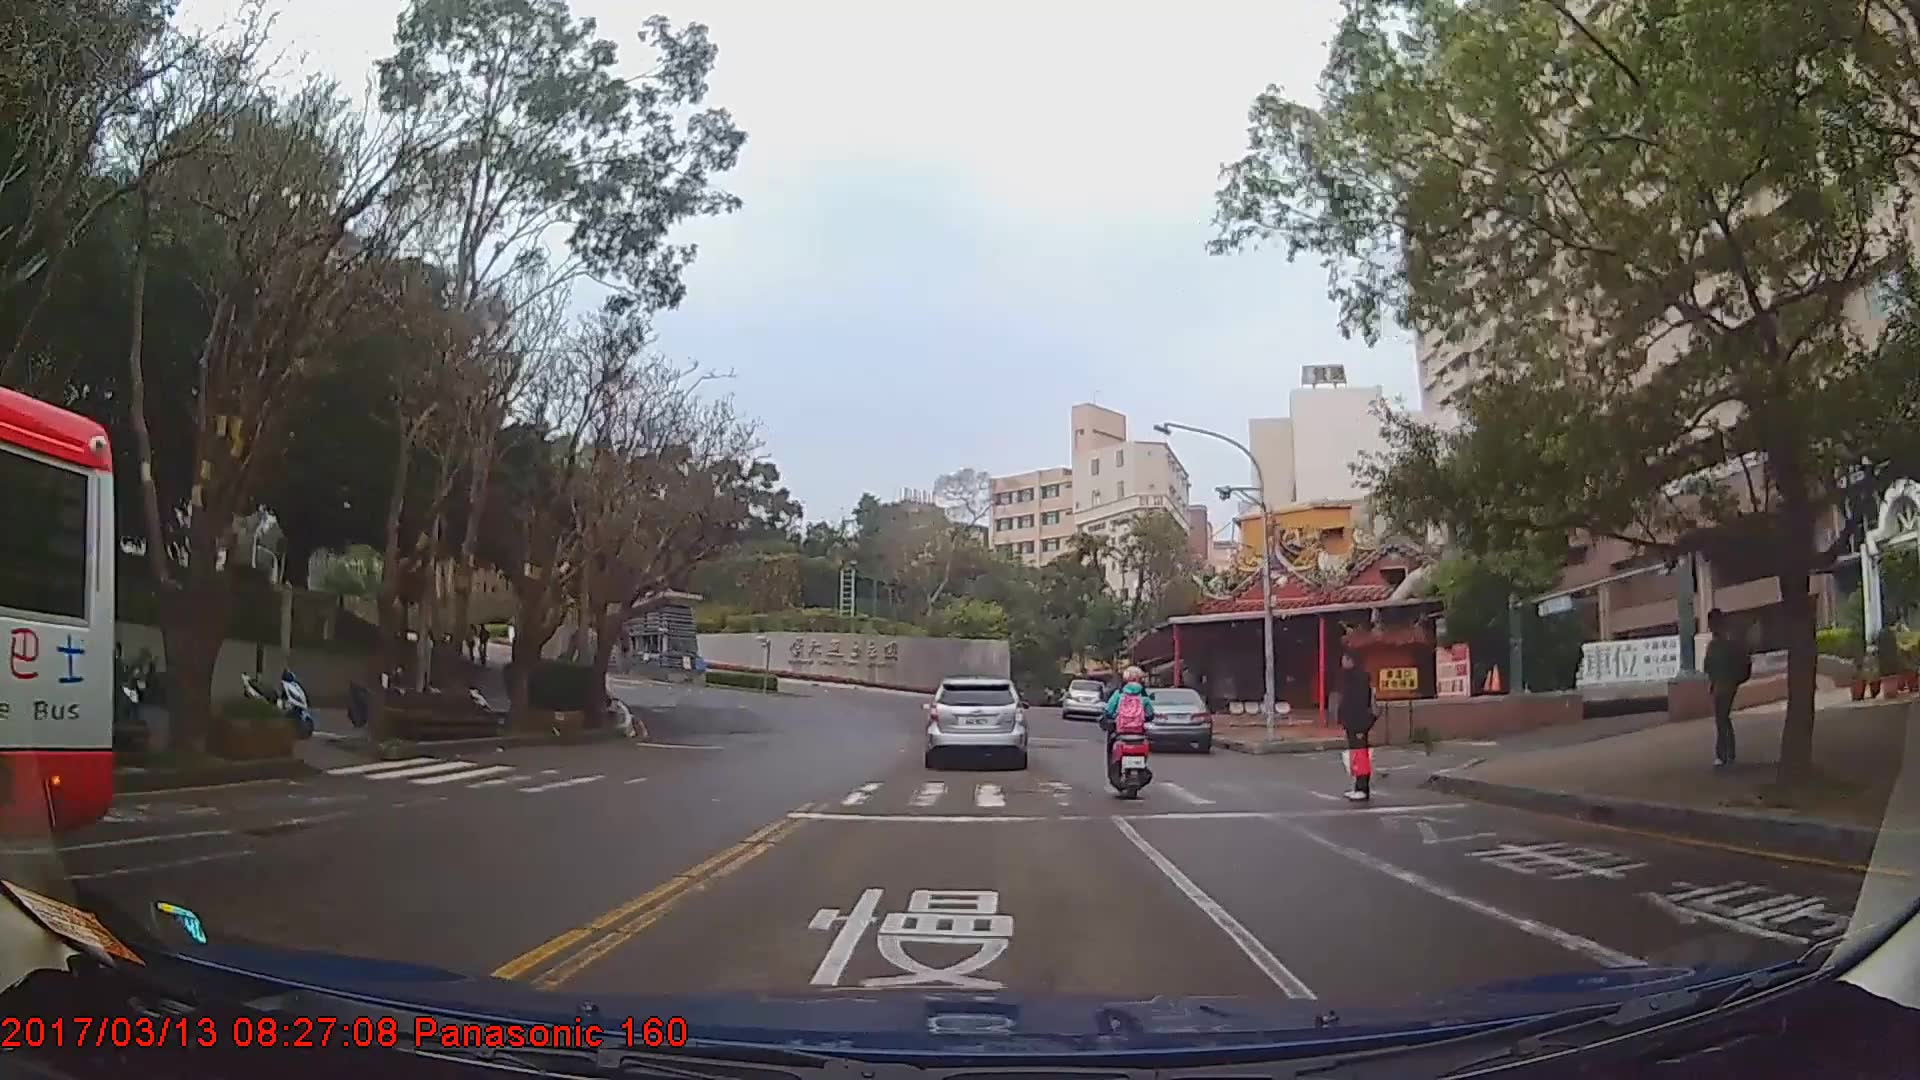pedestrian: (1698, 604, 1754, 763), (1334, 641, 1385, 805)
rider: (1101, 668, 1162, 804)
vehicle: (0, 383, 115, 900), (927, 677, 1028, 772), (1129, 684, 1214, 753), (1063, 677, 1109, 720)
